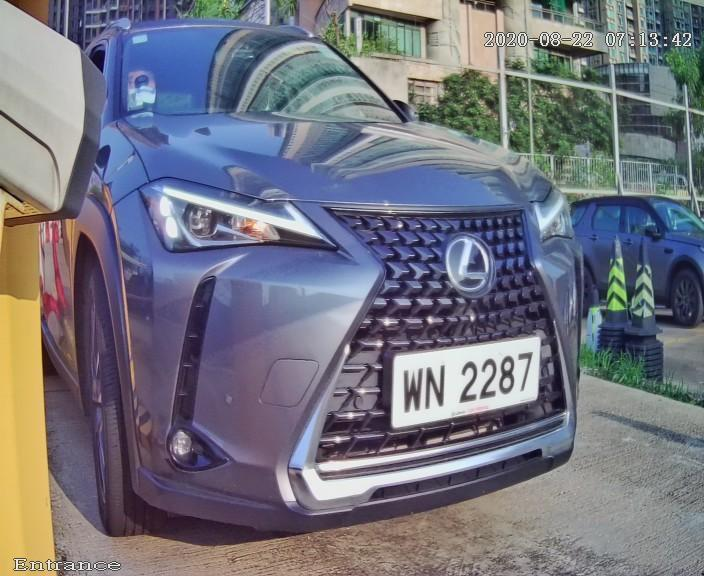Car: (32, 8, 639, 559)
License Plate: (366, 316, 552, 432)
